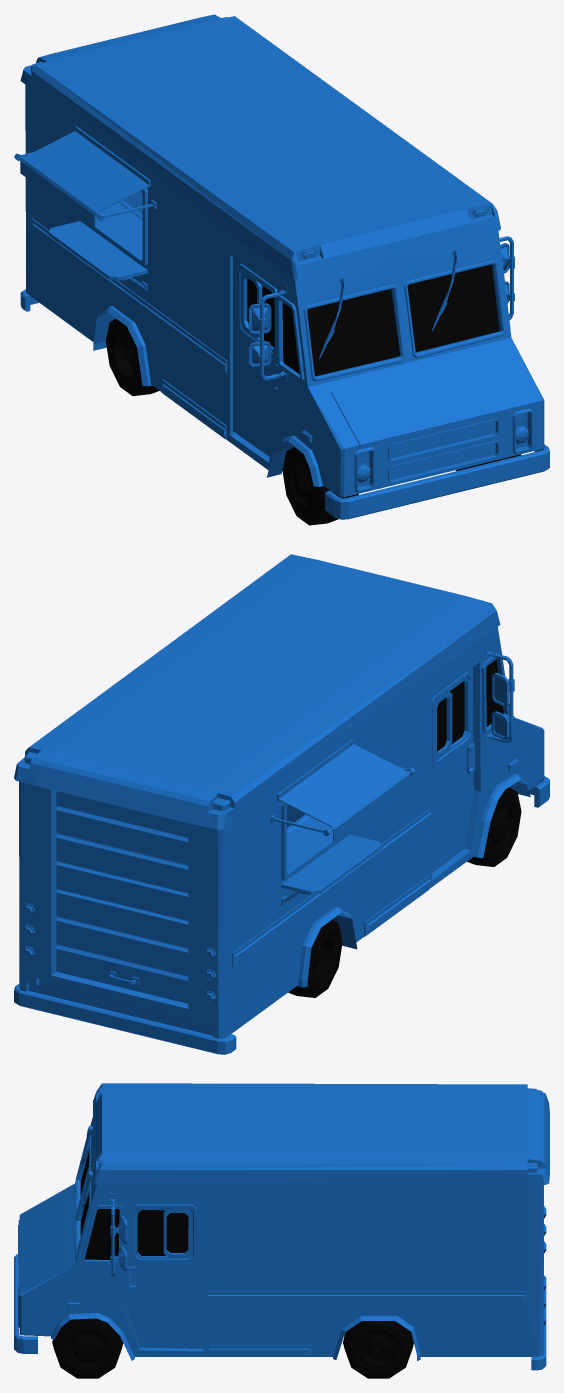
Rendered from HALF_food_truck_2.fbx.
3 renders of one model, top to bottom at view 1: azimuth 30°, elevation 25°; view 2: azimuth 150°, elevation 25°; view 3: azimuth 270°, elevation 25°, orthographic. The views are drawn at different scales.
Visible parts, largest first — view 1: Symmetry_6, Cylinder_3, Cylinder_5; view 2: Symmetry_6, Cylinder_3, Cylinder_5; view 3: Symmetry_6, Cylinder_2, Cylinder_5.
Boxes of the visible parts, x1,y1,x2,y2 form: Symmetry_6: (14,14,549,519); Cylinder_3: (282,447,358,525); Cylinder_5: (105,318,159,395); Symmetry_6: (14,554,549,1054); Cylinder_3: (467,787,521,866); Cylinder_5: (288,919,342,997); Symmetry_6: (14,1083,549,1370); Cylinder_2: (52,1318,123,1378); Cylinder_5: (343,1321,413,1378).
Bounding box in the file's own units: 267 × 234 × 521.
